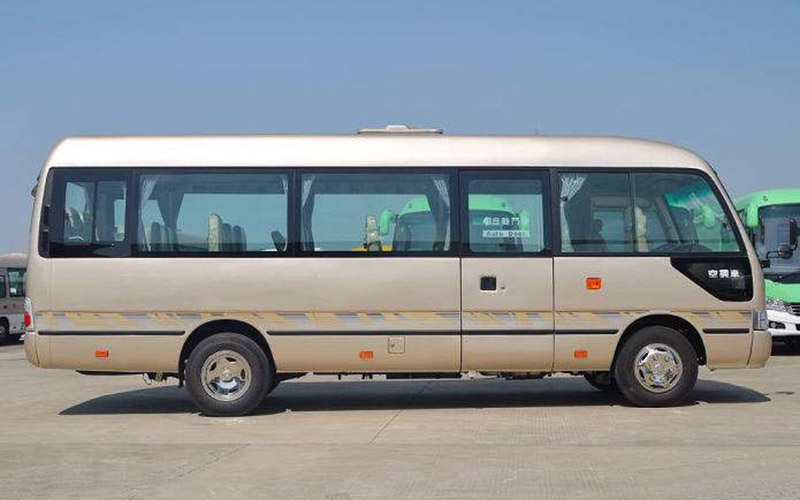midcar: (37, 114, 774, 423)
